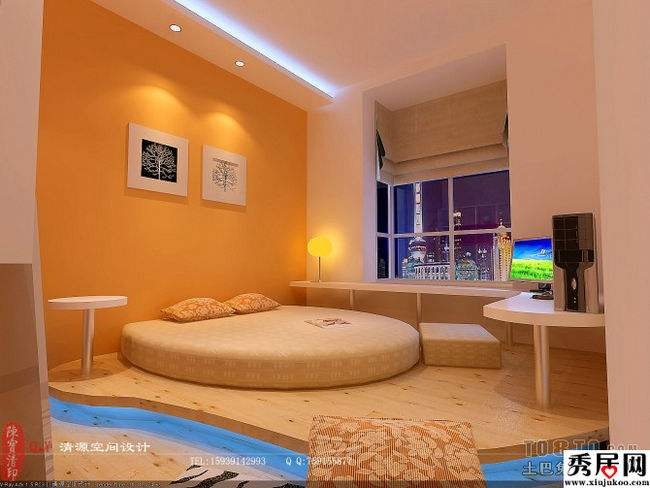床: (112, 305, 431, 395)
枕头: (155, 292, 288, 324)
灯: (305, 233, 337, 285), (164, 23, 185, 36), (231, 59, 248, 69)
